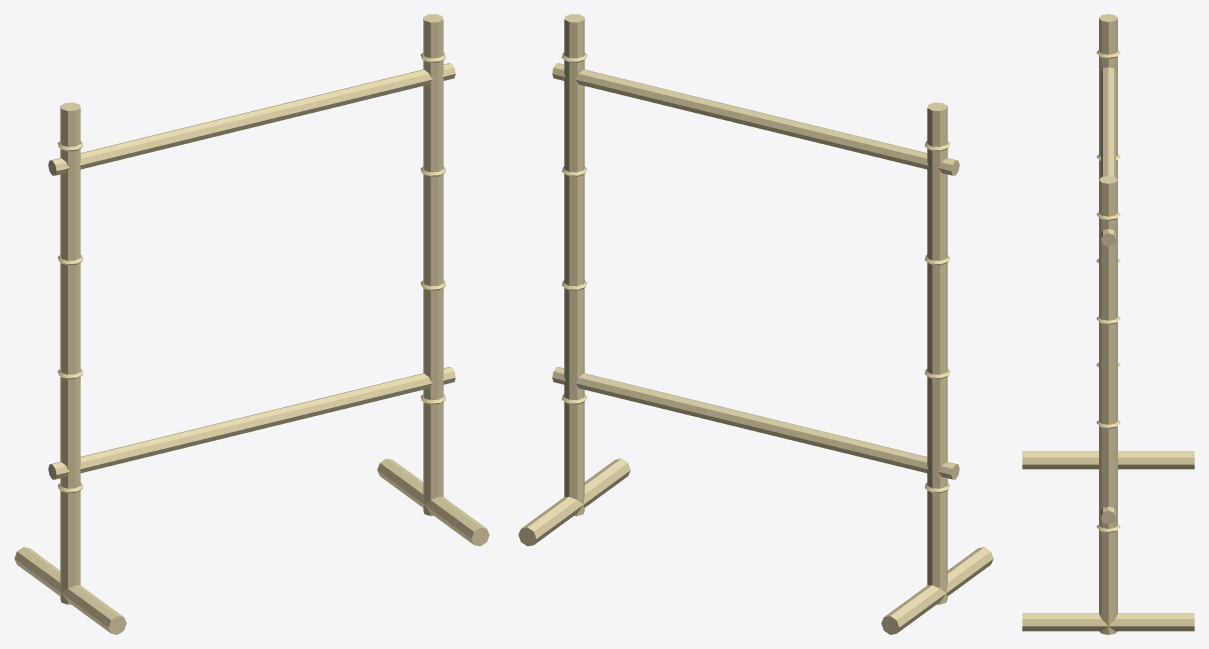
File: Bamboo_Rack.fbx
3 renders of one model, left to right at view 1: azimuth 30°, elevation 25°; view 2: azimuth 150°, elevation 25°; view 3: azimuth 270°, elevation 25°, orthographic. The views are drawn at different scales.
Visible parts, largest first — view 1: Bamboo_Rack; view 2: Bamboo_Rack; view 3: Bamboo_Rack.
Boxes of the visible parts, <box> form: Bamboo_Rack: <box>14,14,489,634</box>; Bamboo_Rack: <box>518,14,993,634</box>; Bamboo_Rack: <box>1022,14,1194,634</box>.
Size of the model in its own units: 1.1 by 1.3 by 0.45.
